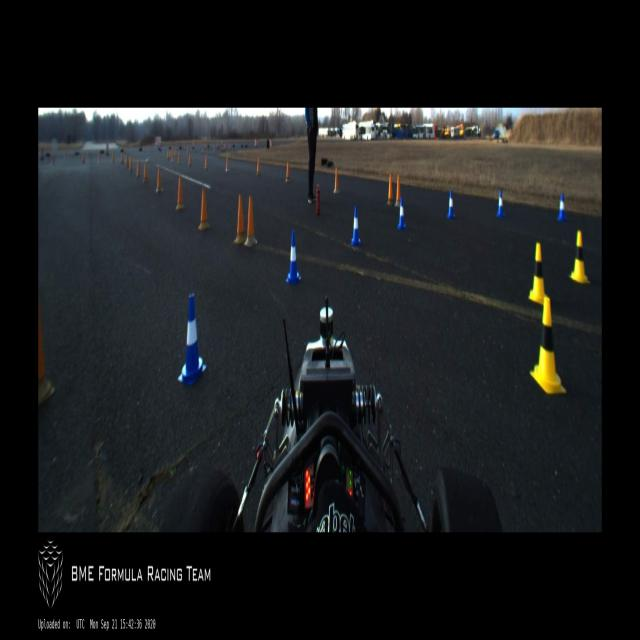blue_cone: (178, 292, 208, 386), (285, 230, 301, 286), (351, 206, 362, 247), (397, 196, 406, 231), (556, 194, 567, 221), (496, 190, 505, 218), (447, 190, 454, 218)
yellow_cone: (530, 297, 566, 395), (569, 229, 590, 284), (529, 243, 546, 303)
